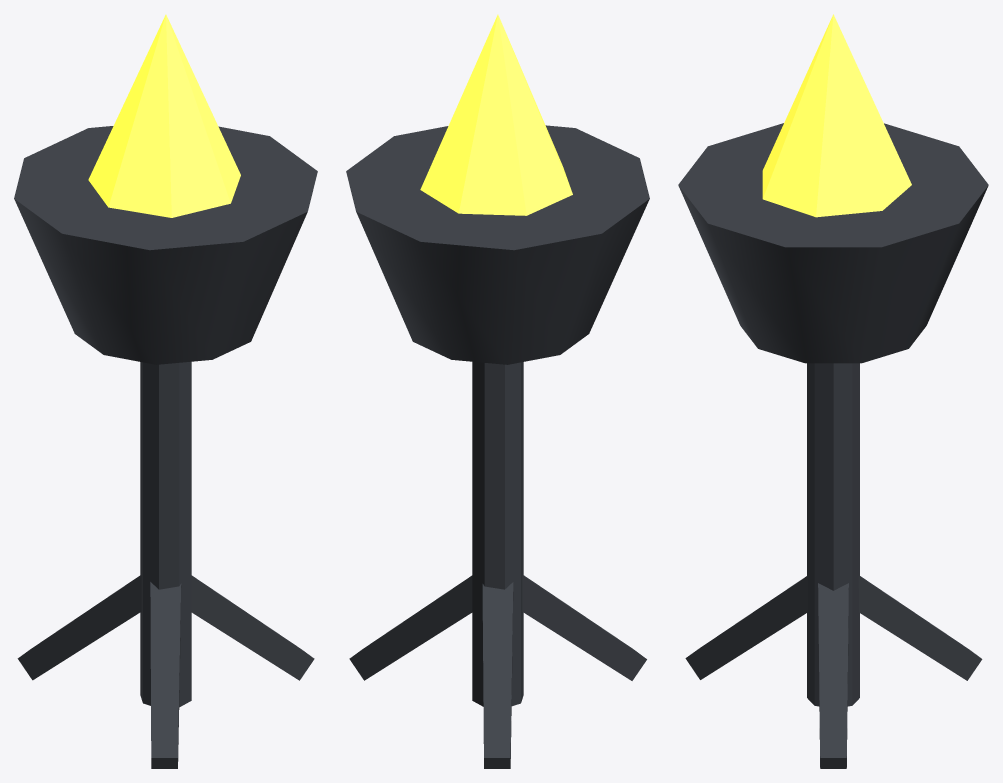
Rendered from DM_Brazier.fbx.
The picture shows the model from 3 angles, left to right: view 1: azimuth 30°, elevation 25°; view 2: azimuth 150°, elevation 25°; view 3: azimuth 270°, elevation 25°; orthographic projection.
Parts seen in each view (by area): view 1: DM_Brazier; view 2: DM_Brazier; view 3: DM_Brazier.
Boxes of the visible parts, left/top/right/bottom form: DM_Brazier: left=14, top=14, right=317, bottom=768; DM_Brazier: left=346, top=14, right=649, bottom=768; DM_Brazier: left=678, top=14, right=988, bottom=768.
Size of the model in its own units: 0.7024 by 1.72 by 0.7.
